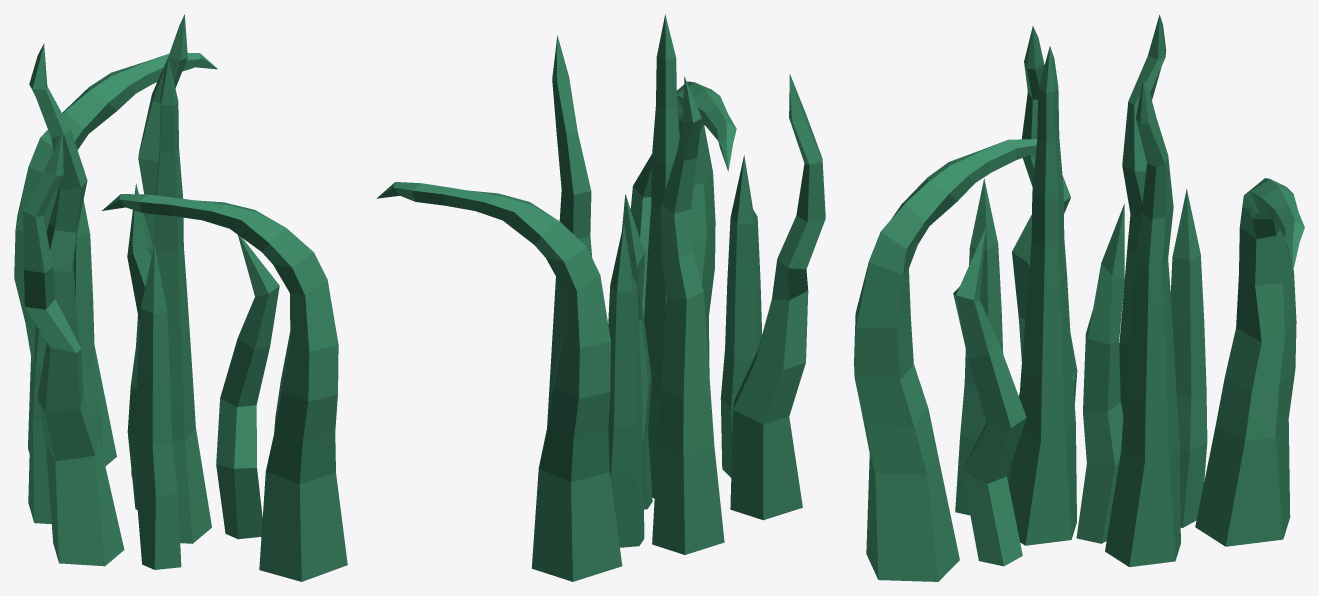
The model's file is Gras.fbx.
The picture shows the model from 3 angles, left to right: view 1: azimuth 30°, elevation 25°; view 2: azimuth 150°, elevation 25°; view 3: azimuth 270°, elevation 25°; orthographic projection. The views are drawn at different scales.
Visible parts, largest first — view 1: Cube; view 2: Cube; view 3: Cube.
Boxes of the visible parts, <box> form: Cube: <box>14,14,347,581</box>; Cube: <box>376,14,825,581</box>; Cube: <box>854,14,1304,581</box>.
Size of the model in its own units: 212 by 298 by 251.
